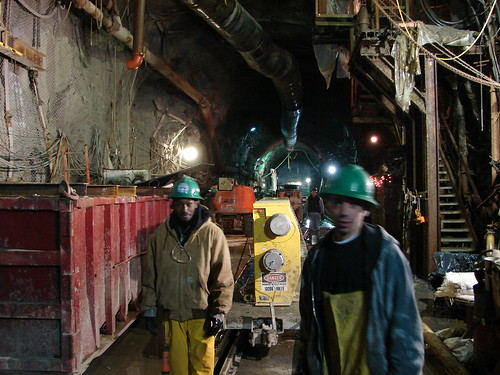person hardhat: (299, 160, 429, 375), (140, 174, 236, 375), (301, 184, 325, 242)
